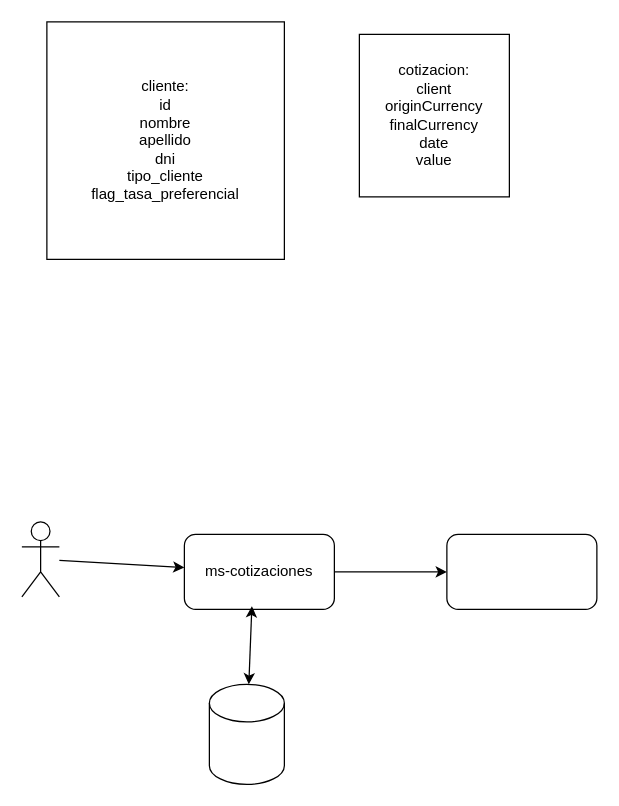
This 619x806 diagram has some shape labels left out. The shapes that lost their labels are listed below. From the top down, each one's centre as x and y in pixels, then its label:
the point at 40,559: Actor
the point at 521,571: api-currency-thirdparty
